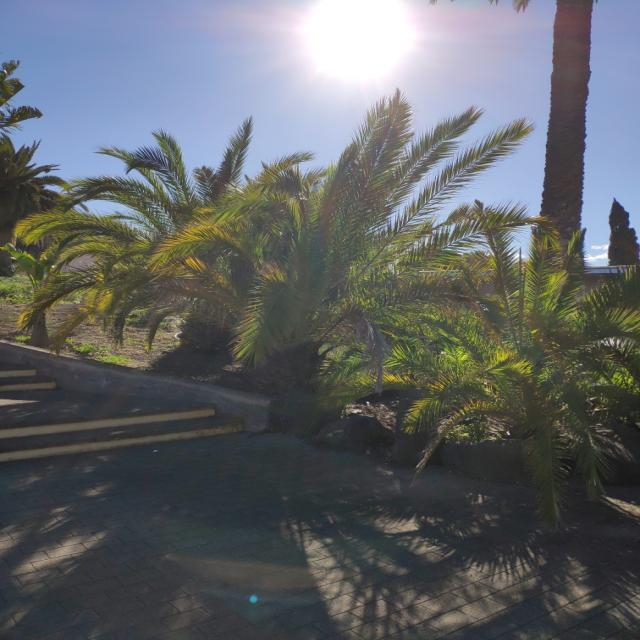Palm-Trees: (45, 128, 308, 350)
